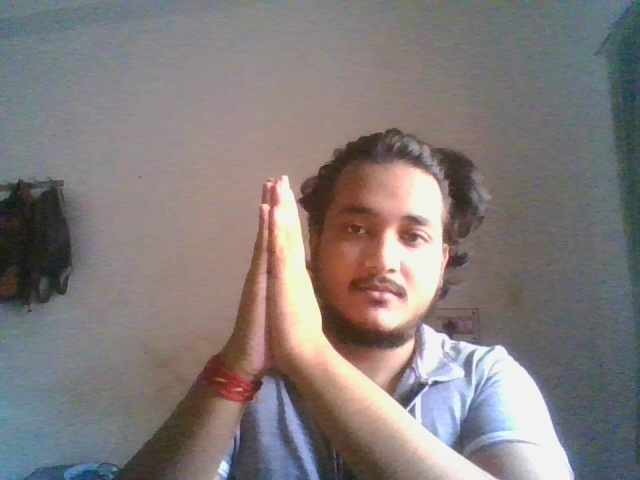ThankYou: (237, 175, 323, 377)
